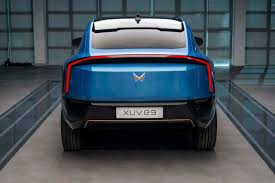XUV 400: (59, 13, 218, 154)
